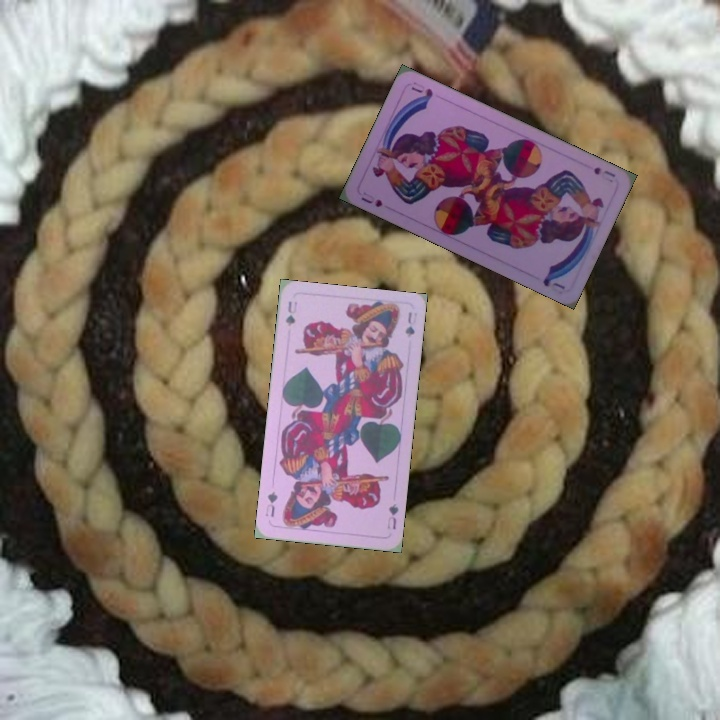GU: (383, 499, 401, 532), (282, 297, 299, 329)
SU: (357, 187, 385, 210), (590, 163, 618, 180)
